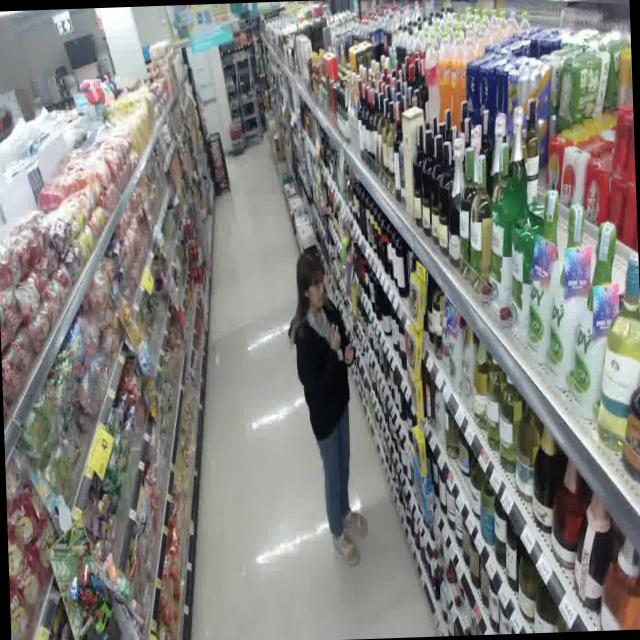shoplifting: (268, 224, 384, 578)
